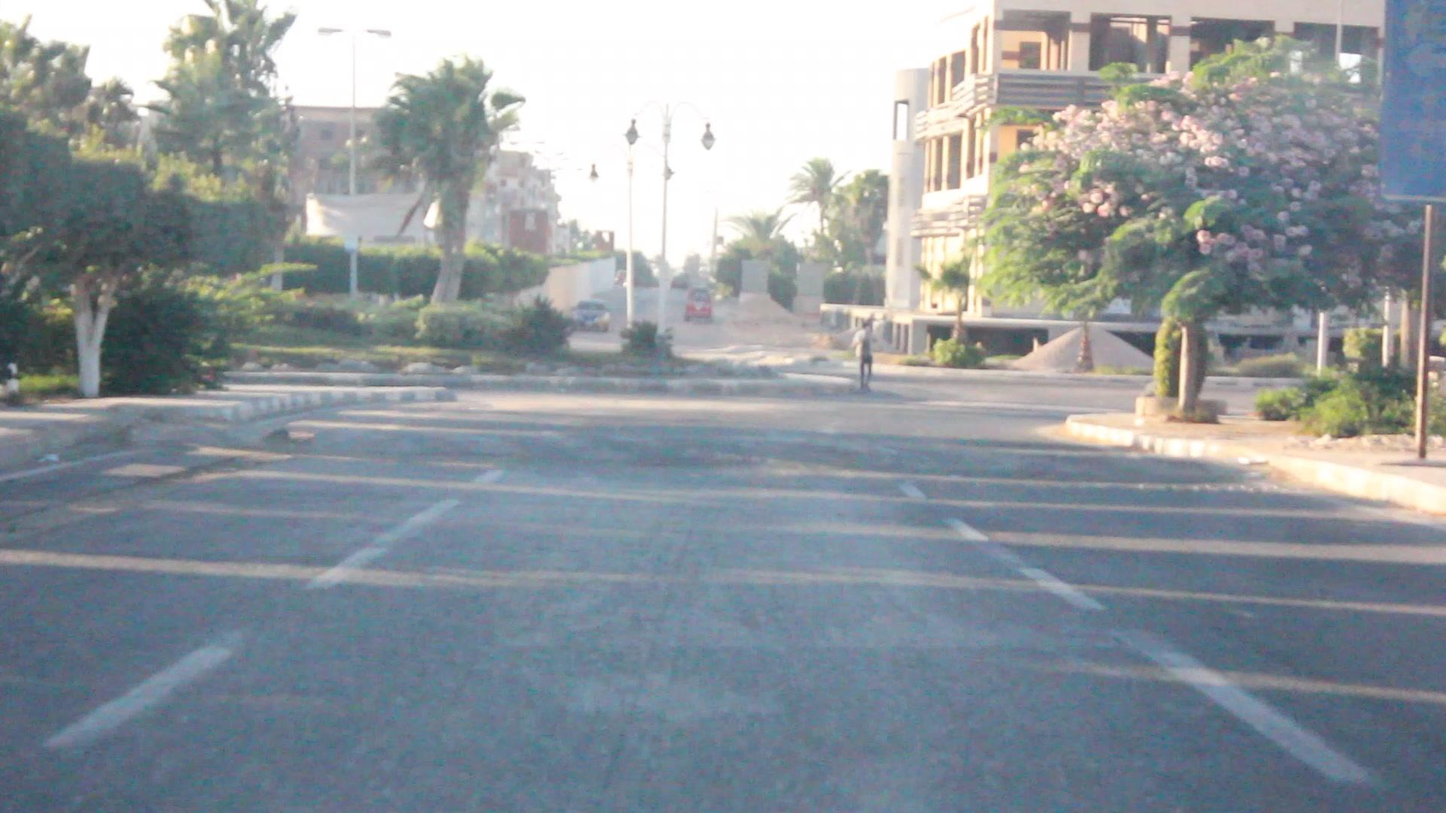Bump: (290, 422, 1243, 480)
